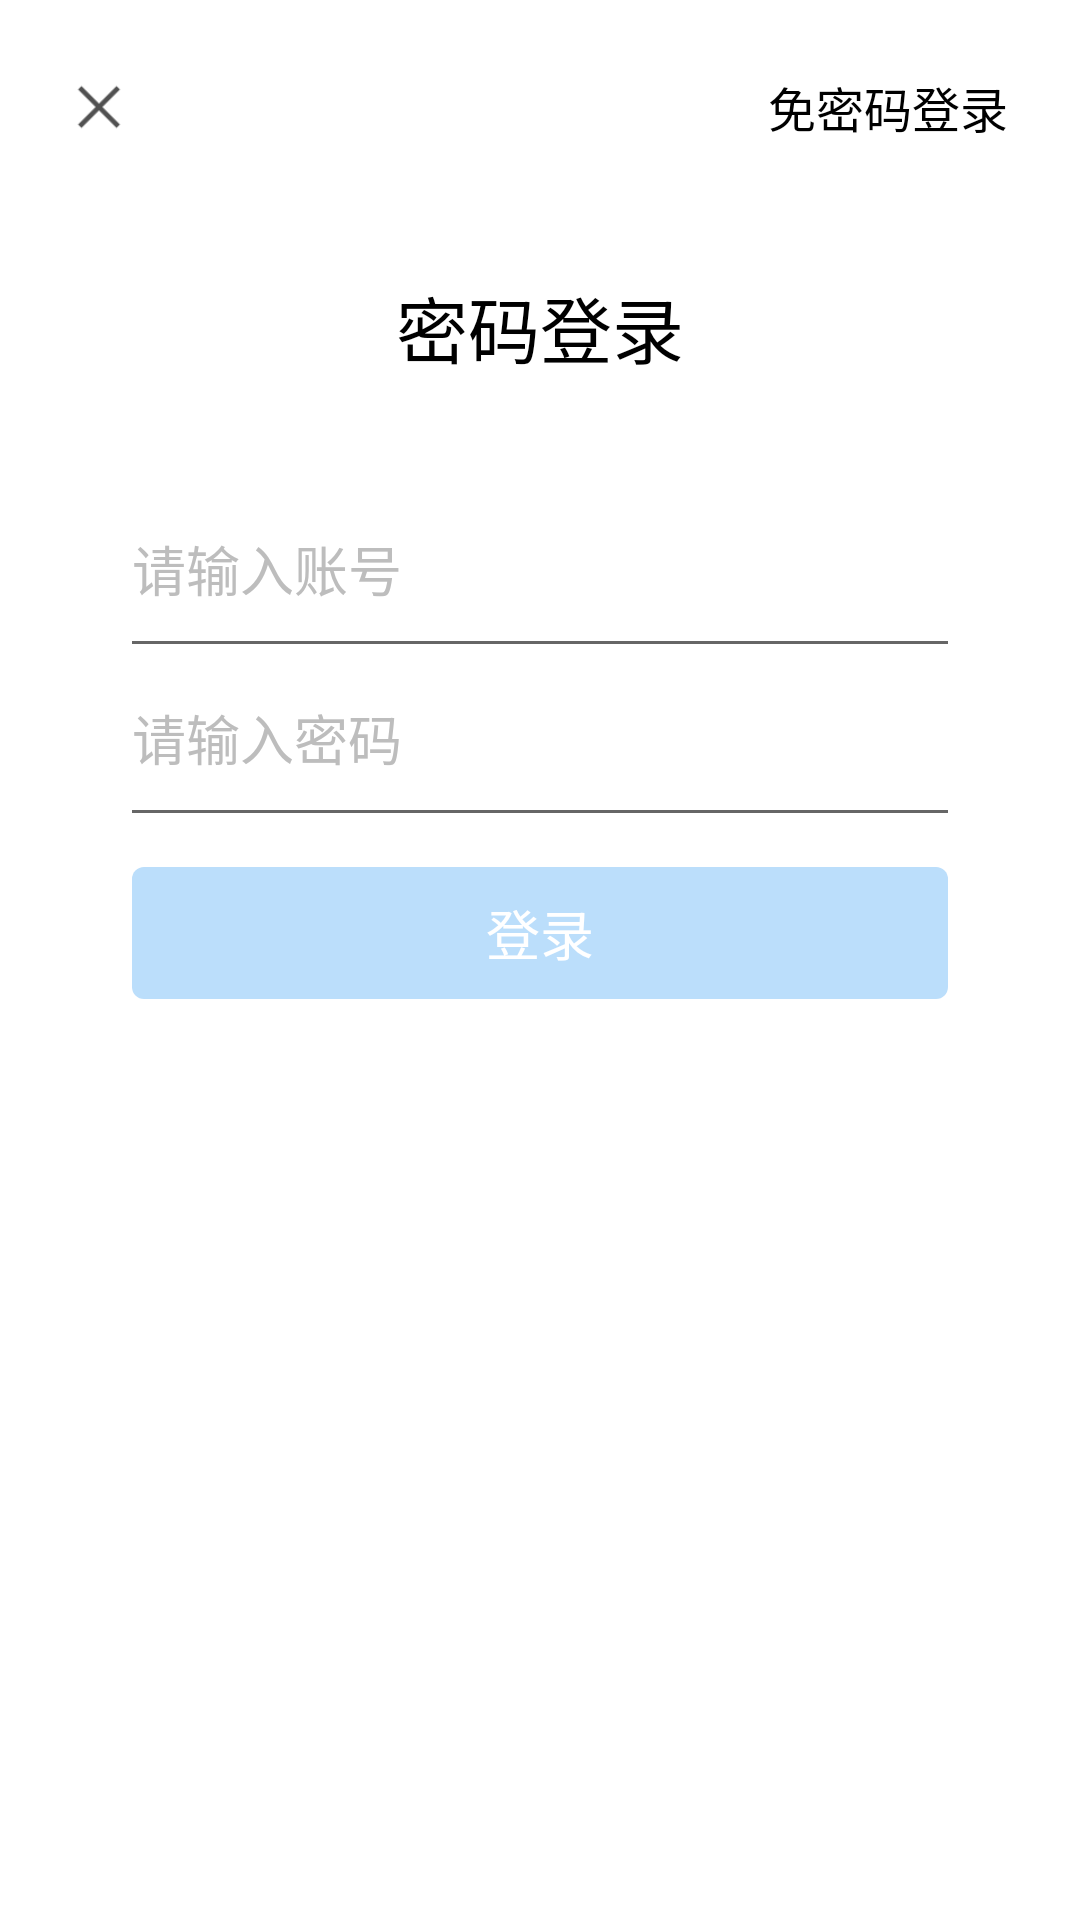

Locate icon controls on the screen. Image size 1080 x 1920, boxes as detection(x1, y1, x2, y2).
cha: detection(78, 86, 120, 128)
